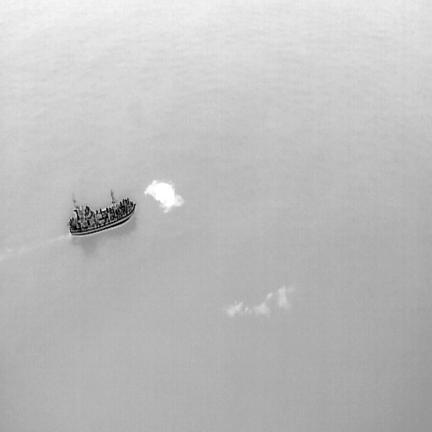flukeprints: (144, 180, 184, 212), (224, 302, 269, 316), (279, 287, 290, 309)
